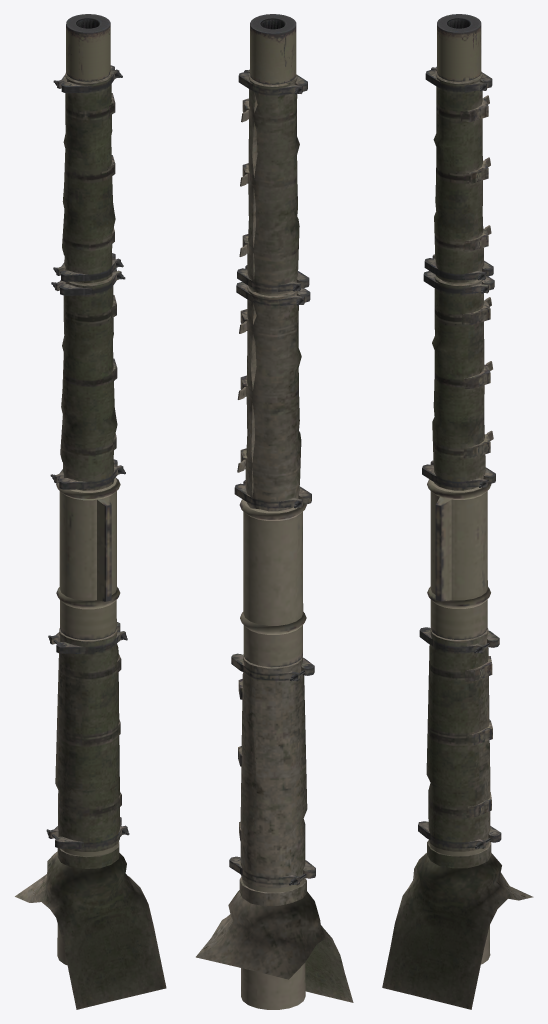
File: Gun_01.glb
3 views of the same model, side by side, from view 1: azimuth 30°, elevation 25°; view 2: azimuth 150°, elevation 25°; view 3: azimuth 330°, elevation 25° (orthographic). The views are drawn at different scales.
Visible parts, largest first — view 1: set_0_group_0; view 2: set_0_group_0; view 3: set_0_group_0.
Boxes of the visible parts, box(x1,y1,x2,y2) form: set_0_group_0: box(15, 14, 166, 1009); set_0_group_0: box(196, 14, 353, 1009); set_0_group_0: box(382, 14, 533, 1009).
Bounding box in the file's own units: 0.3827 × 3.88 × 0.4619.
Materials: 1 (1 with a texture image).
